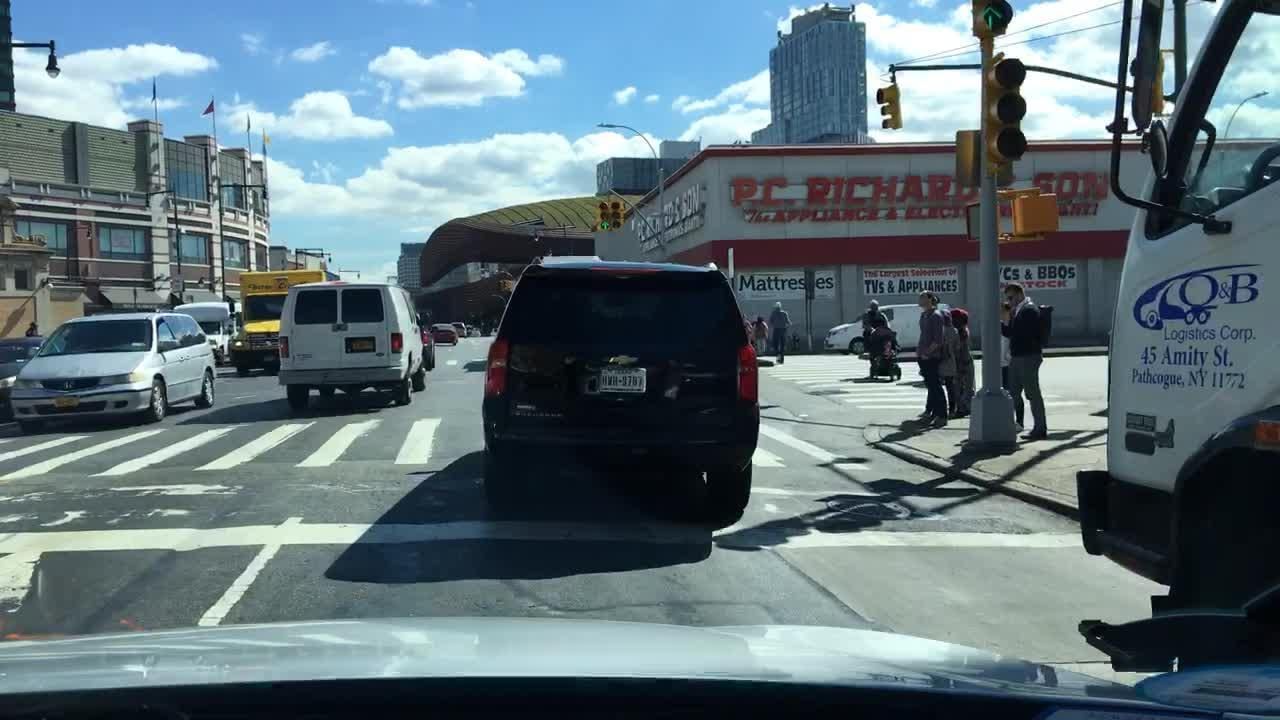chevrolet: (606, 351, 640, 372)
